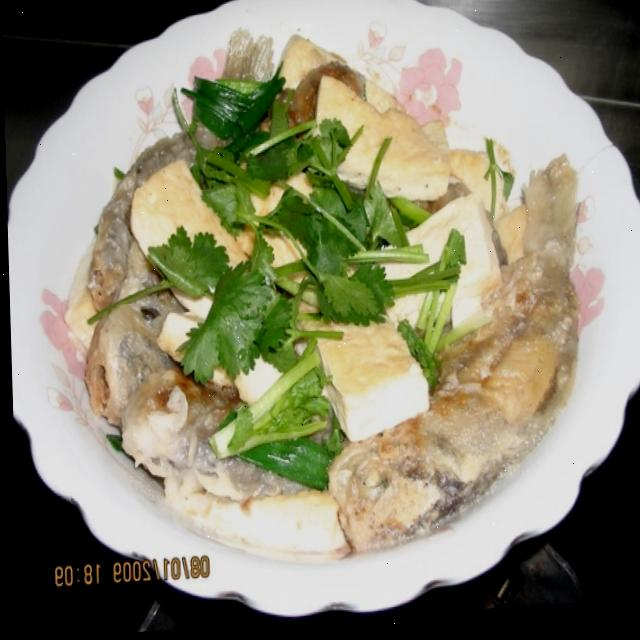豆腐料理: (22, 5, 625, 600)
